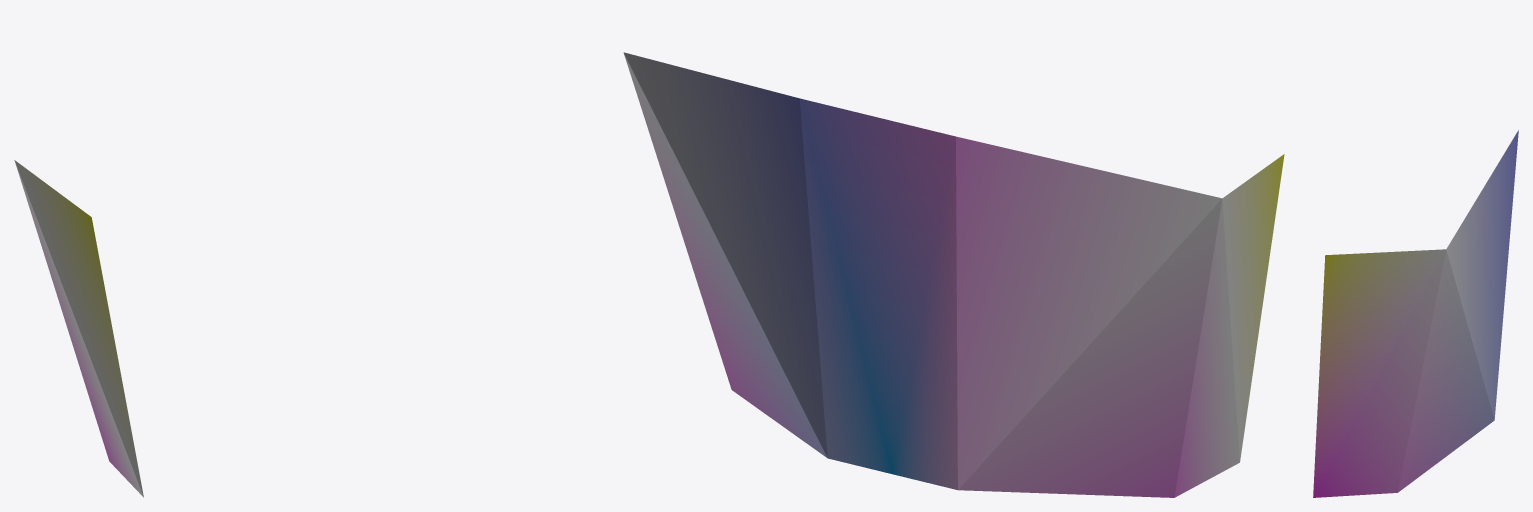
The picture shows the model from 3 angles, left to right: view 1: azimuth 30°, elevation 25°; view 2: azimuth 150°, elevation 25°; view 3: azimuth 270°, elevation 25°; orthographic projection. The views are drawn at different scales.
Parts seen in each view (by area): view 1: model_115D; view 2: model_115D; view 3: model_115D.
Boxes of the visible parts, box(x1,y1,x2,y2) form: model_115D: box(14, 160, 143, 497); model_115D: box(623, 52, 1284, 497); model_115D: box(1313, 130, 1518, 497).
Size of the model in its own units: 46 by 28 by 17.
